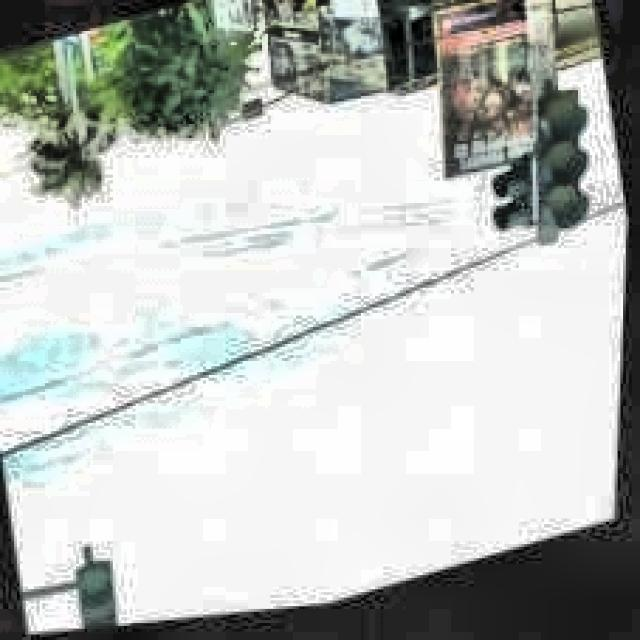green: (518, 98, 610, 252), (76, 555, 138, 629)
